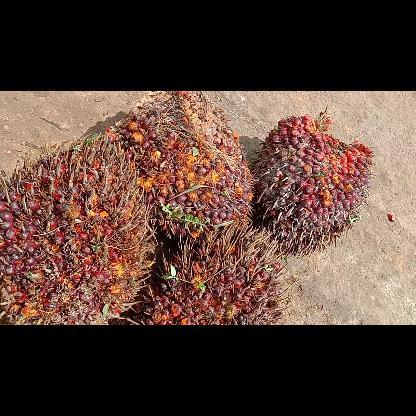TBS masak: (0, 130, 154, 324), (105, 91, 255, 237), (252, 113, 372, 254), (132, 222, 288, 324)
